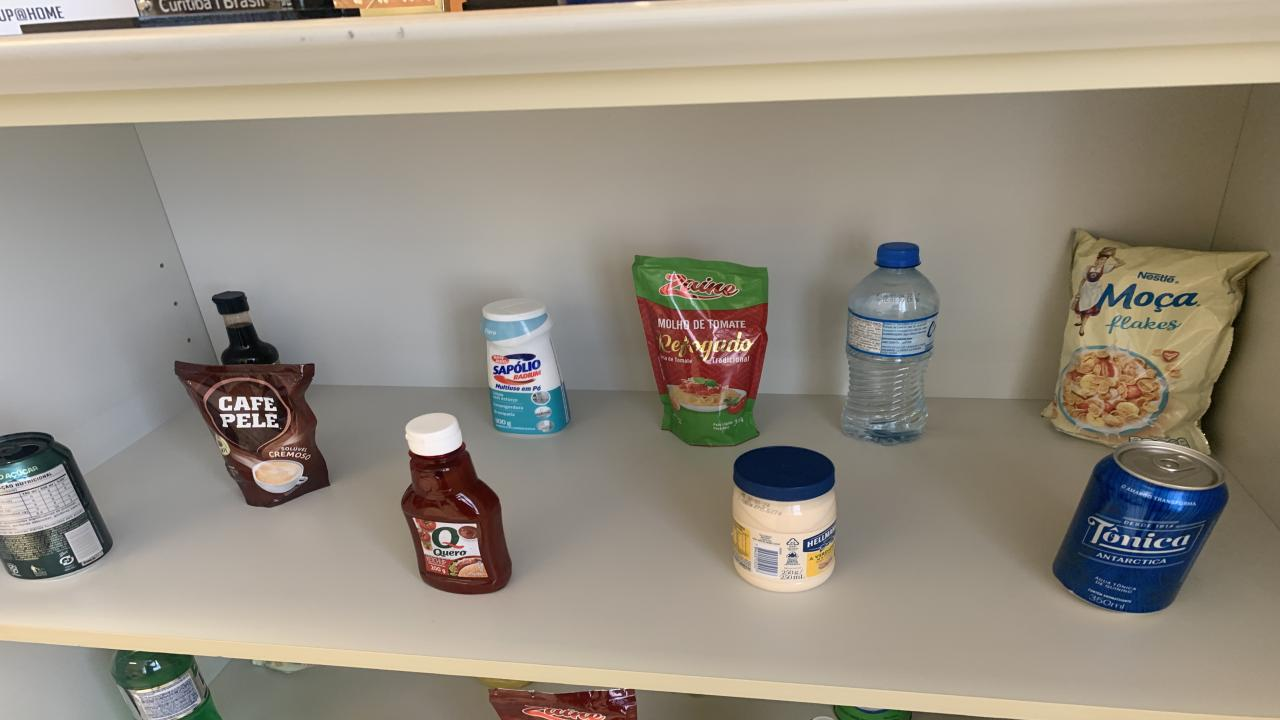Cleaner-Cleanup_Items: (482, 298, 570, 433)
Coffee-Pantry_Items: (175, 362, 330, 506)
Detergent-Cleanup_Items: (112, 651, 220, 720)
English_Sauce-Pantry_Items: (212, 291, 278, 366)
Flakes-Snacks: (1042, 231, 1268, 454)
Guarana_Can-Drinks: (0, 431, 112, 579)
Ketchup-Pantry_Items: (402, 412, 512, 594)
Mayonnaise-Pantry_Items: (732, 446, 838, 592)
Tomato_Sauce-Pantry_Items: (632, 255, 768, 446), (490, 688, 638, 720)
Tonic-Drinks: (1052, 441, 1228, 613)
Water_Bottle-Drinks: (840, 242, 940, 444), (842, 244, 940, 442)
